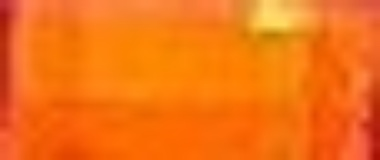Hotspot: (248, 1, 327, 38)
